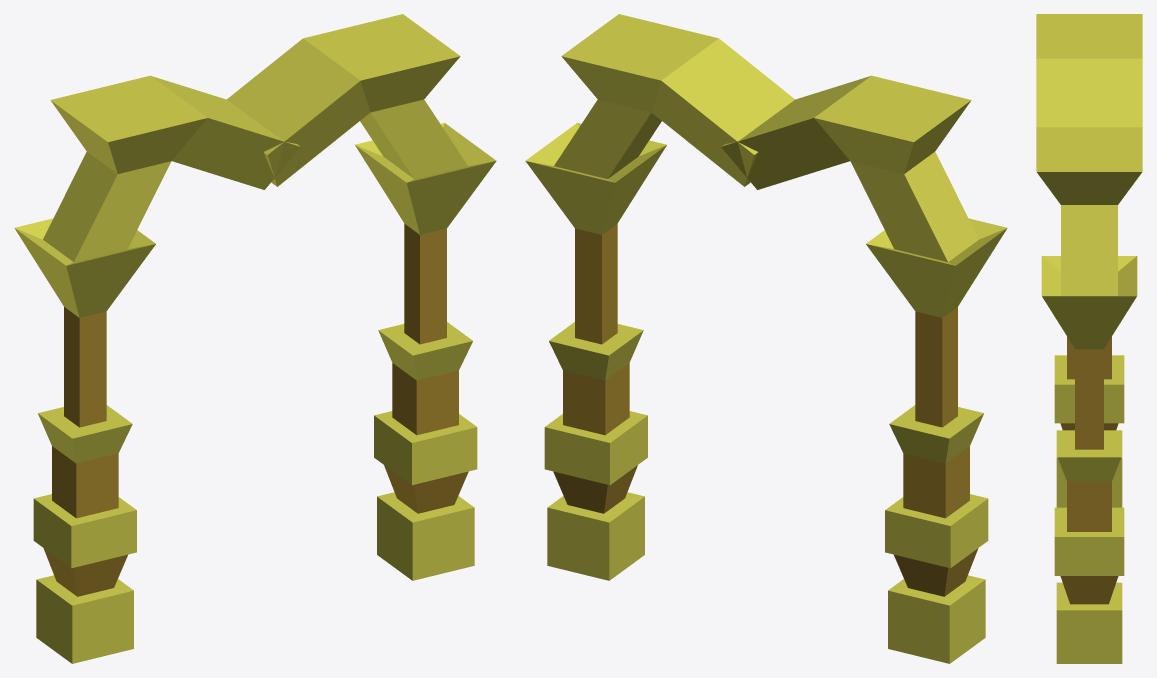
Rendered from desertarchway.fbx.
3 views of the same model, side by side, from view 1: azimuth 30°, elevation 25°; view 2: azimuth 150°, elevation 25°; view 3: azimuth 270°, elevation 25° (orthographic). The views are drawn at different scales.
Parts seen in each view (by area): view 1: Cube.000; view 2: Cube.000; view 3: Cube.000.
Part boxes in pixels (box(x1,y1,x2,y2)): Cube.000: box(14, 14, 496, 663); Cube.000: box(525, 14, 1007, 663); Cube.000: box(1036, 14, 1142, 663).
Size of the model in its own units: 1391 by 1617 by 323.
